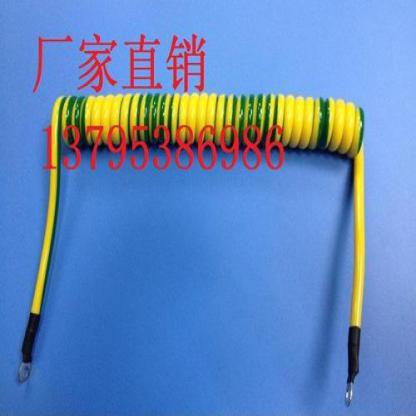FOD: (15, 89, 371, 406)
